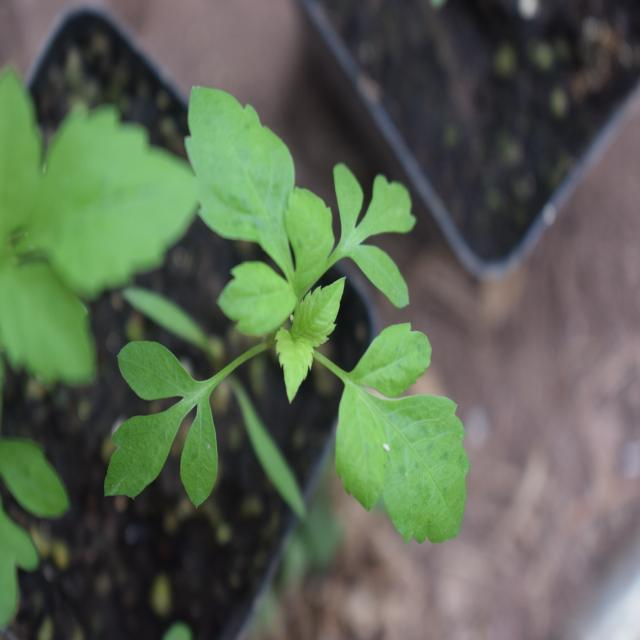Bidens pilosa: (109, 96, 464, 540)
